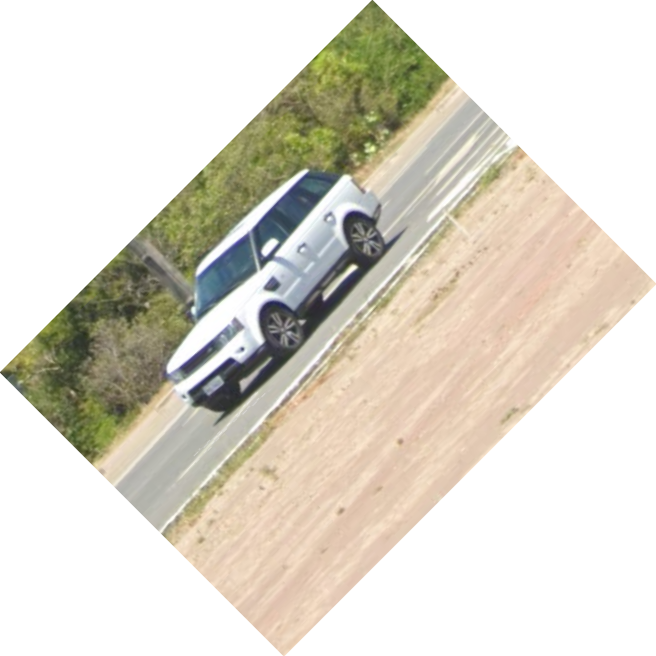car: (164, 165, 390, 414)
